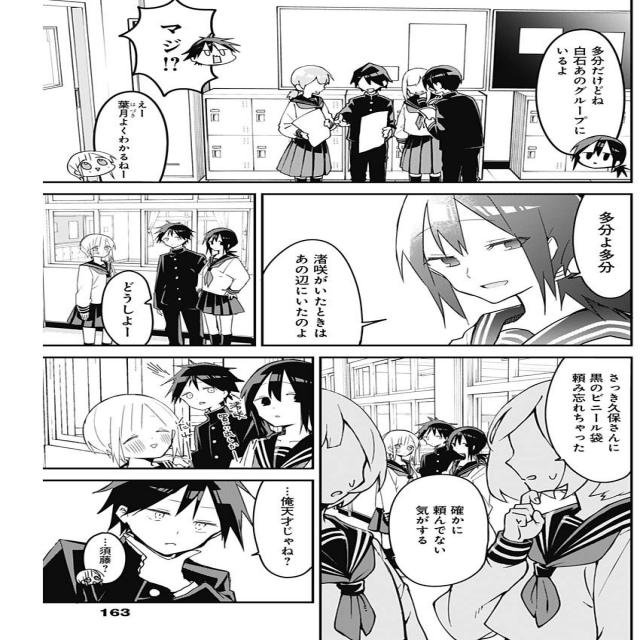Bubble: (534, 28, 628, 157), (544, 355, 636, 484), (387, 473, 491, 587), (262, 238, 365, 346), (117, 0, 227, 98), (91, 89, 171, 184), (570, 192, 636, 300), (250, 476, 316, 580), (102, 271, 154, 349), (81, 529, 130, 584)
